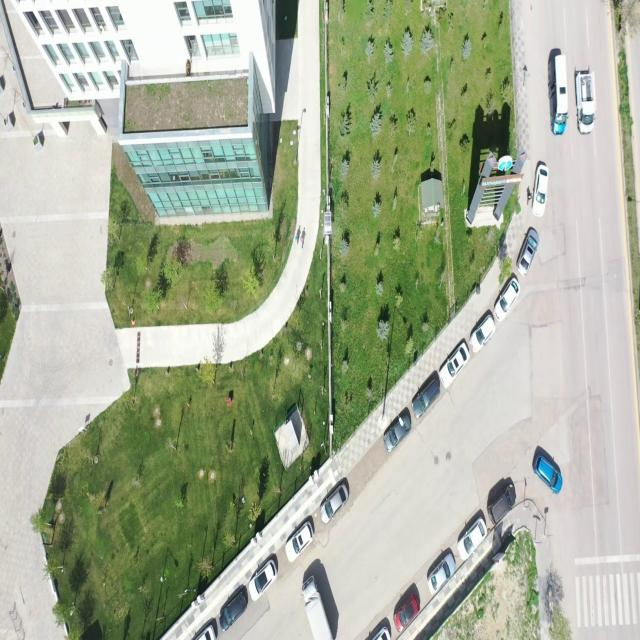p3rson: (295, 232, 300, 245), (300, 235, 304, 249)
